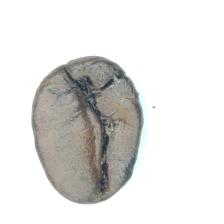NG: (62, 60, 135, 193)
